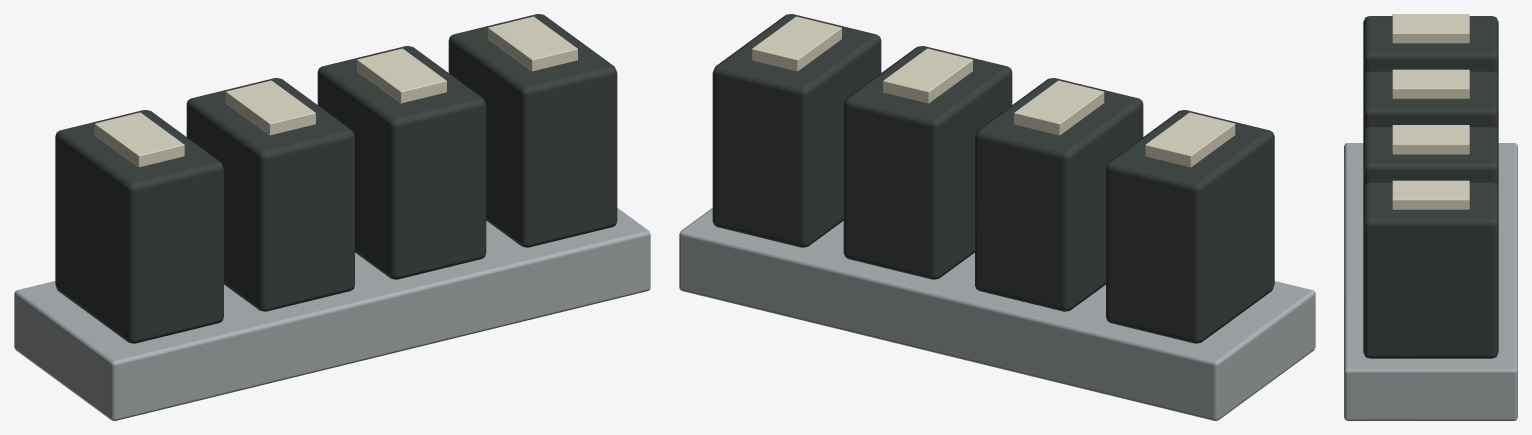
File: scavengers-loot-library-relay-bank-8609240c__2498.glb
The picture shows the model from 3 angles, left to right: view 1: azimuth 30°, elevation 25°; view 2: azimuth 150°, elevation 25°; view 3: azimuth 270°, elevation 25°; orthographic projection. The views are drawn at different scales.
Visible parts, largest first — view 1: relay-bank; view 2: relay-bank; view 3: relay-bank.
Part boxes in pixels (<box>): relay-bank: <box>14,14,650,420</box>; relay-bank: <box>679,14,1315,420</box>; relay-bank: <box>1344,14,1517,420</box>.
Size of the model in its own units: 0.14 by 0.058 by 0.045.
